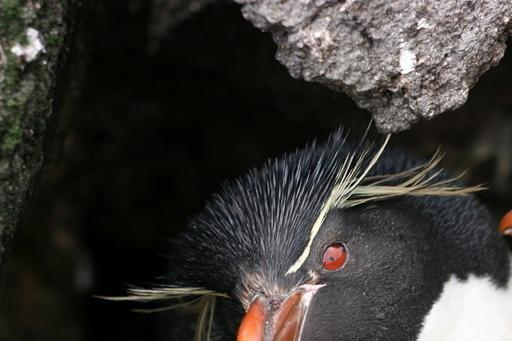Southern Rockhopper Penguin: (30, 110, 512, 341), (456, 1, 512, 341)
